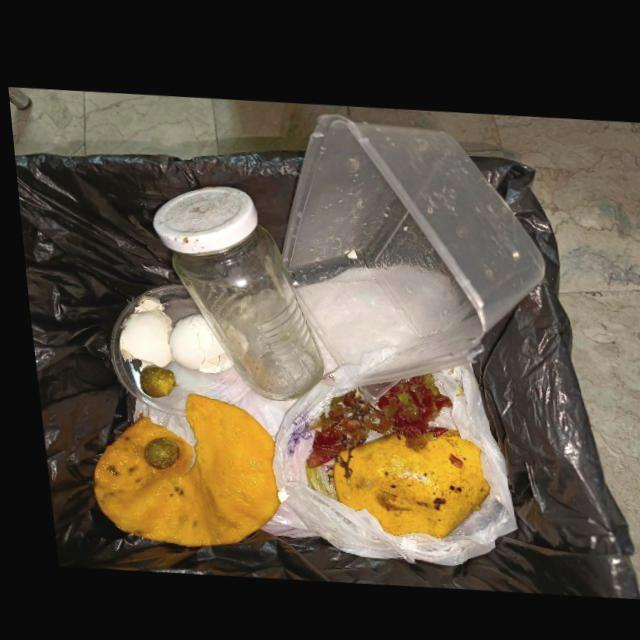glass_bottle: (148, 182, 318, 398)
plastic_bag: (252, 356, 508, 560)
plastic_container: (277, 108, 541, 380)
